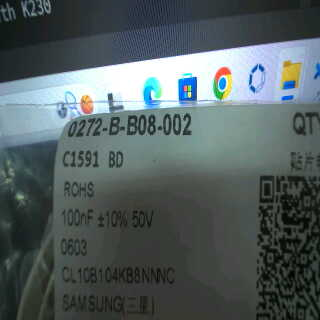100nF: (58, 204, 94, 232)
